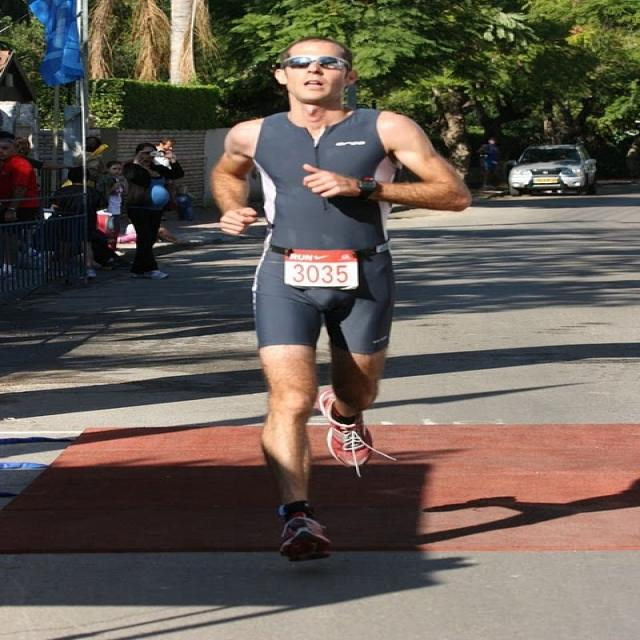Bib: (290, 267, 358, 290)
